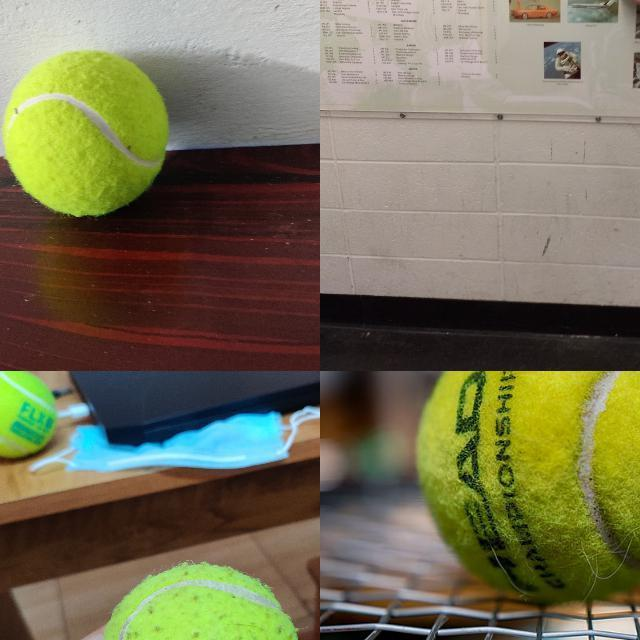tennis-ball: (415, 371, 639, 602), (2, 49, 169, 218), (96, 561, 303, 639), (0, 371, 57, 457)
